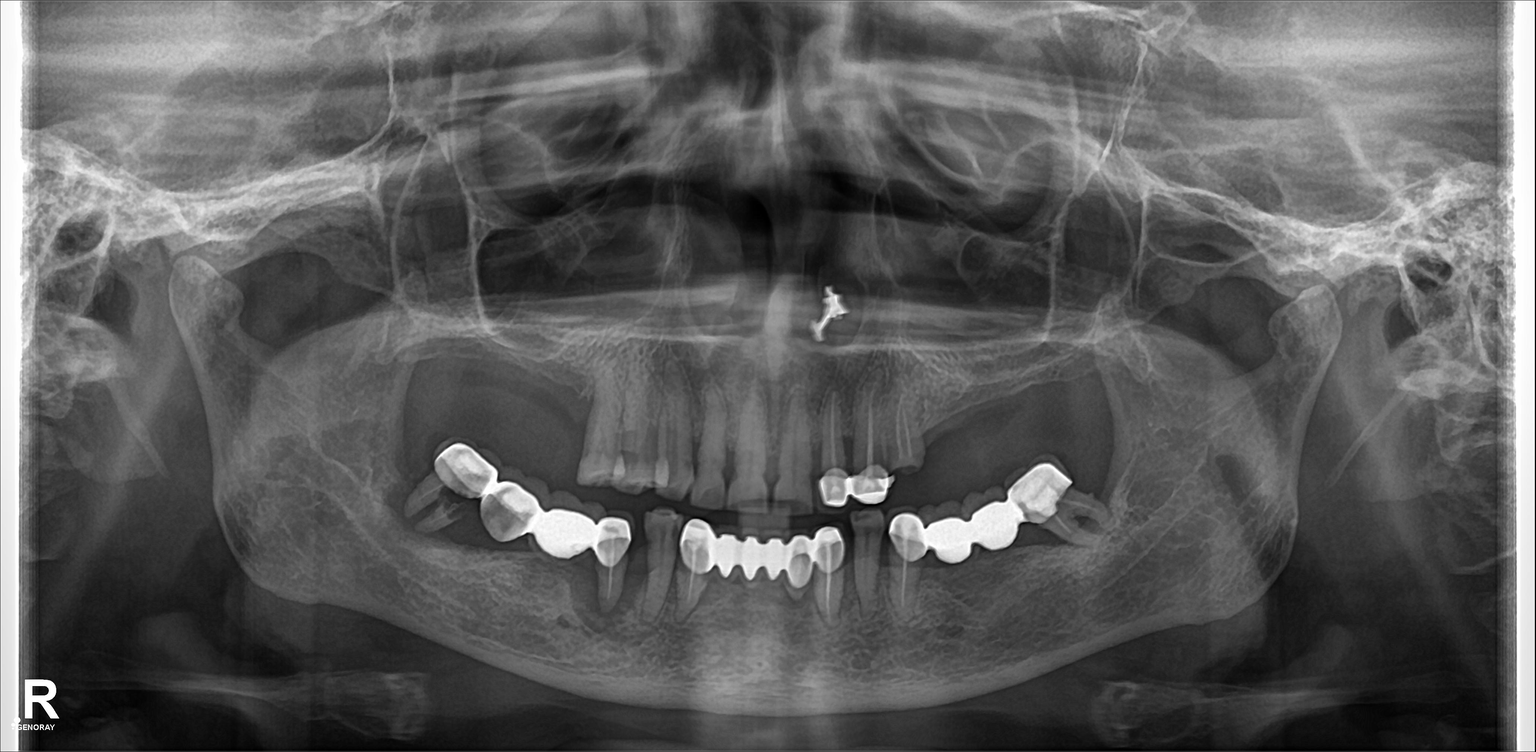Endodontically Treated Tooth: (418, 447, 478, 556), (840, 387, 898, 499), (1028, 465, 1099, 551), (724, 523, 772, 631), (482, 478, 529, 587), (536, 501, 596, 585), (983, 508, 1038, 599), (886, 516, 933, 620), (812, 396, 855, 503), (937, 523, 988, 612), (767, 527, 812, 624), (685, 523, 723, 620), (808, 534, 846, 630), (894, 382, 931, 472), (596, 514, 627, 618)
Missing Tooth: (499, 333, 547, 435), (544, 326, 587, 429), (410, 322, 450, 420), (981, 361, 1025, 450), (1075, 352, 1114, 432), (1028, 350, 1065, 434), (953, 372, 985, 460), (460, 326, 493, 410), (922, 378, 953, 457)
